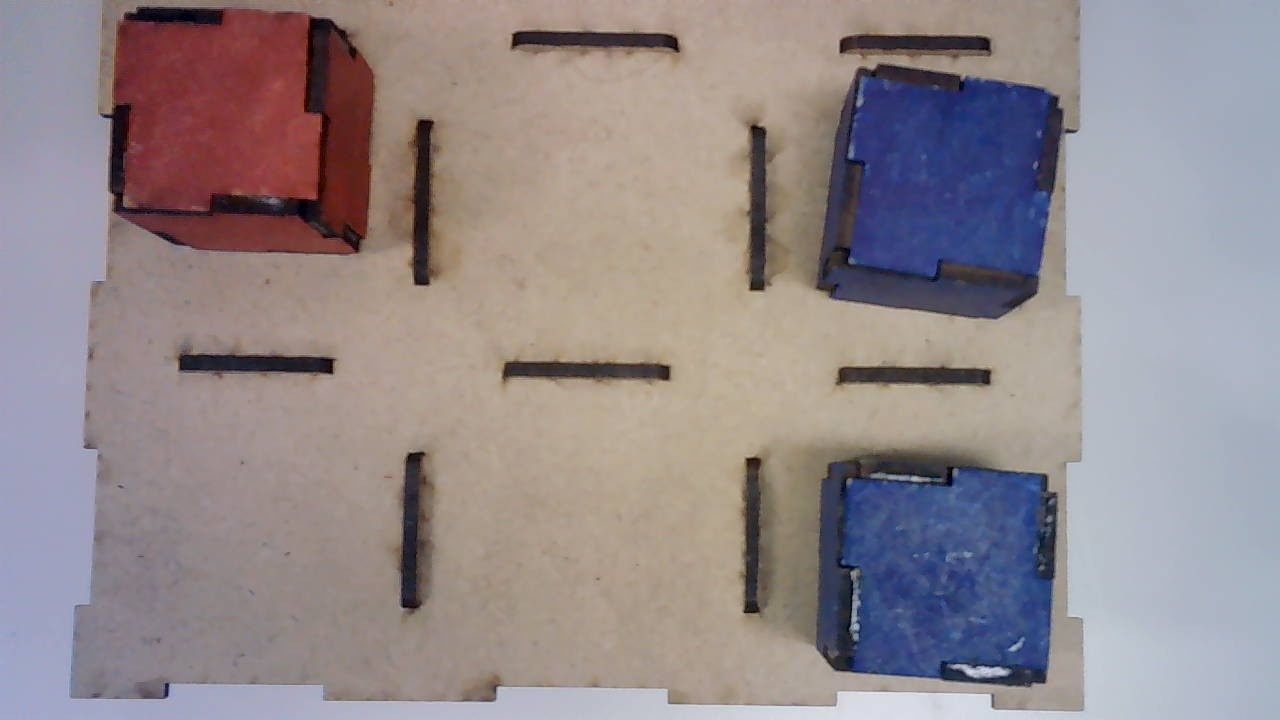blue box: (814, 64, 1069, 320), (817, 453, 1059, 696)
red box: (107, 5, 367, 257)
